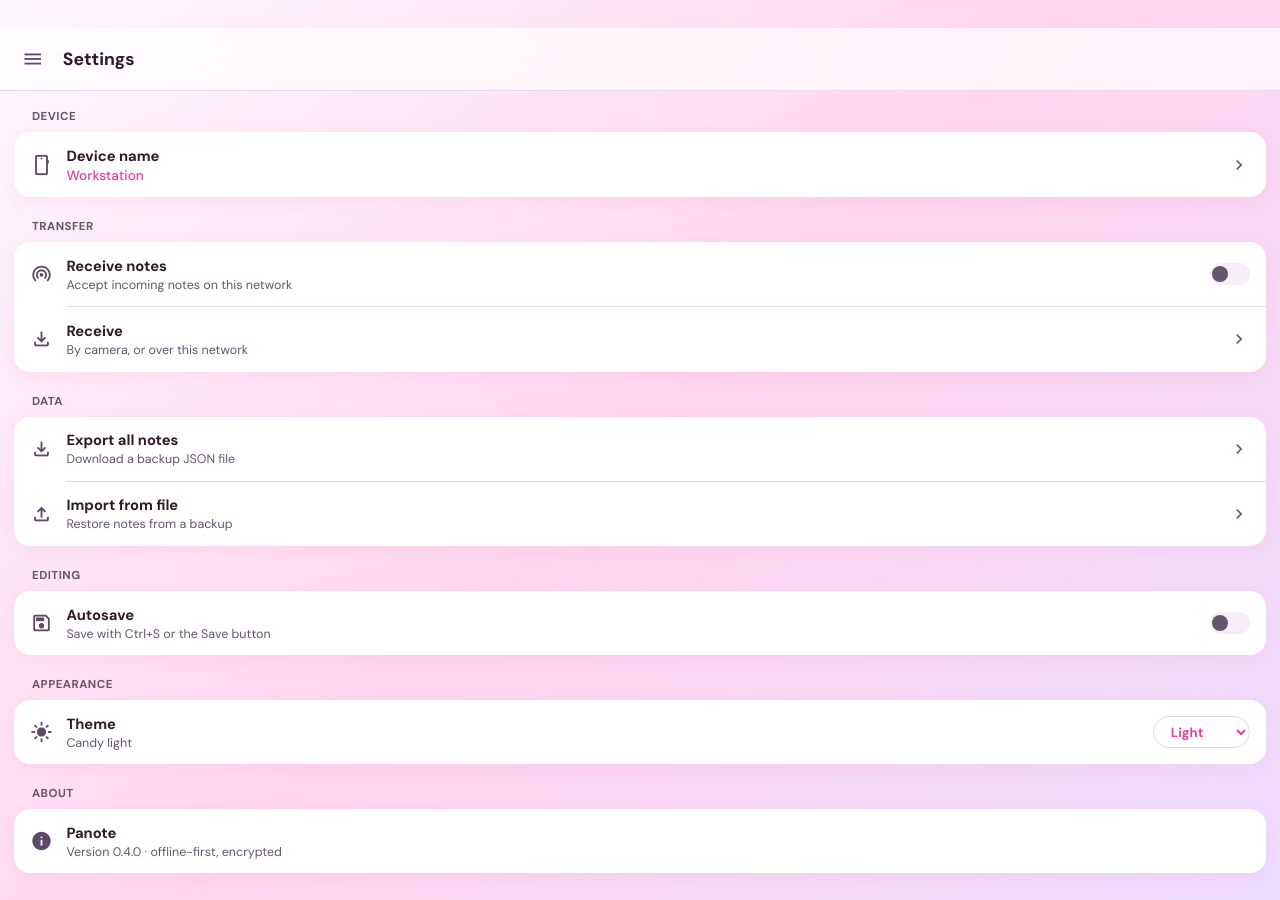
Test: device name › saves a new name
This screenshot has width=1280, height=900.
Click the button with class "name-value" at (105, 175), box top-left (66, 167), bottom-right (1216, 184)
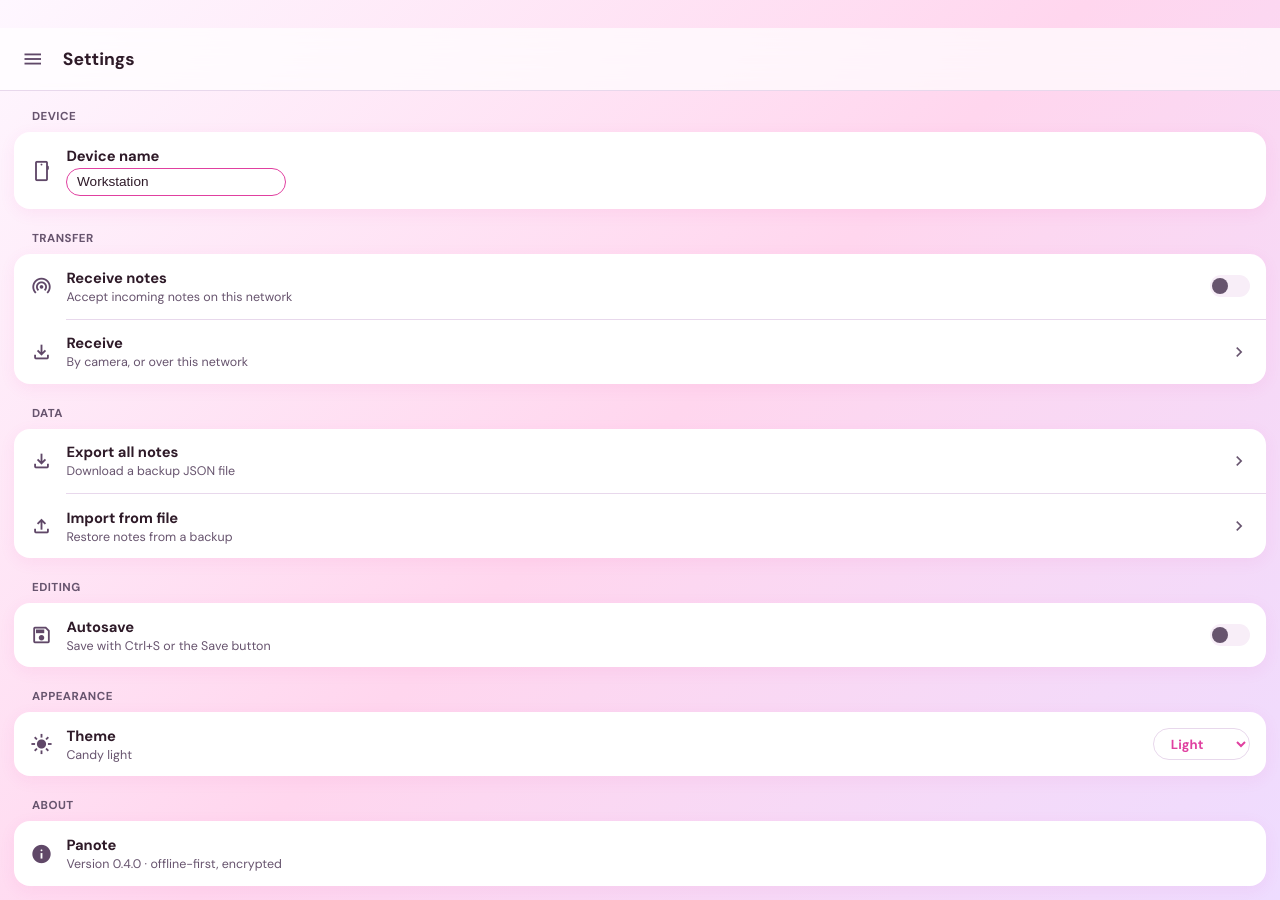
Replace the text in the field with class "name-input" with "Laptop" at (176, 182), box top-left (66, 168), bottom-right (286, 196)
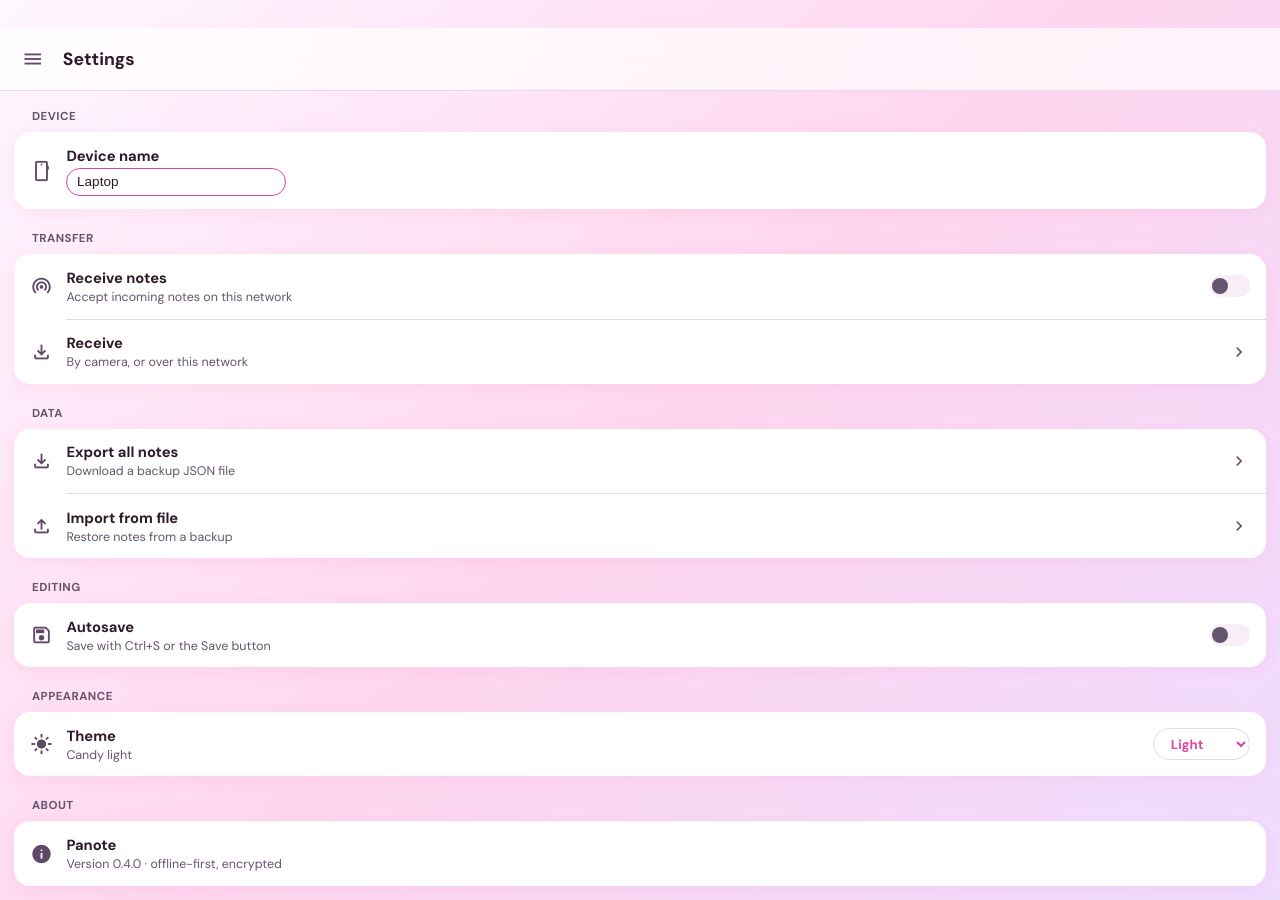
Press Enter in the field with class "name-input", box top-left (66, 168), bottom-right (286, 196)
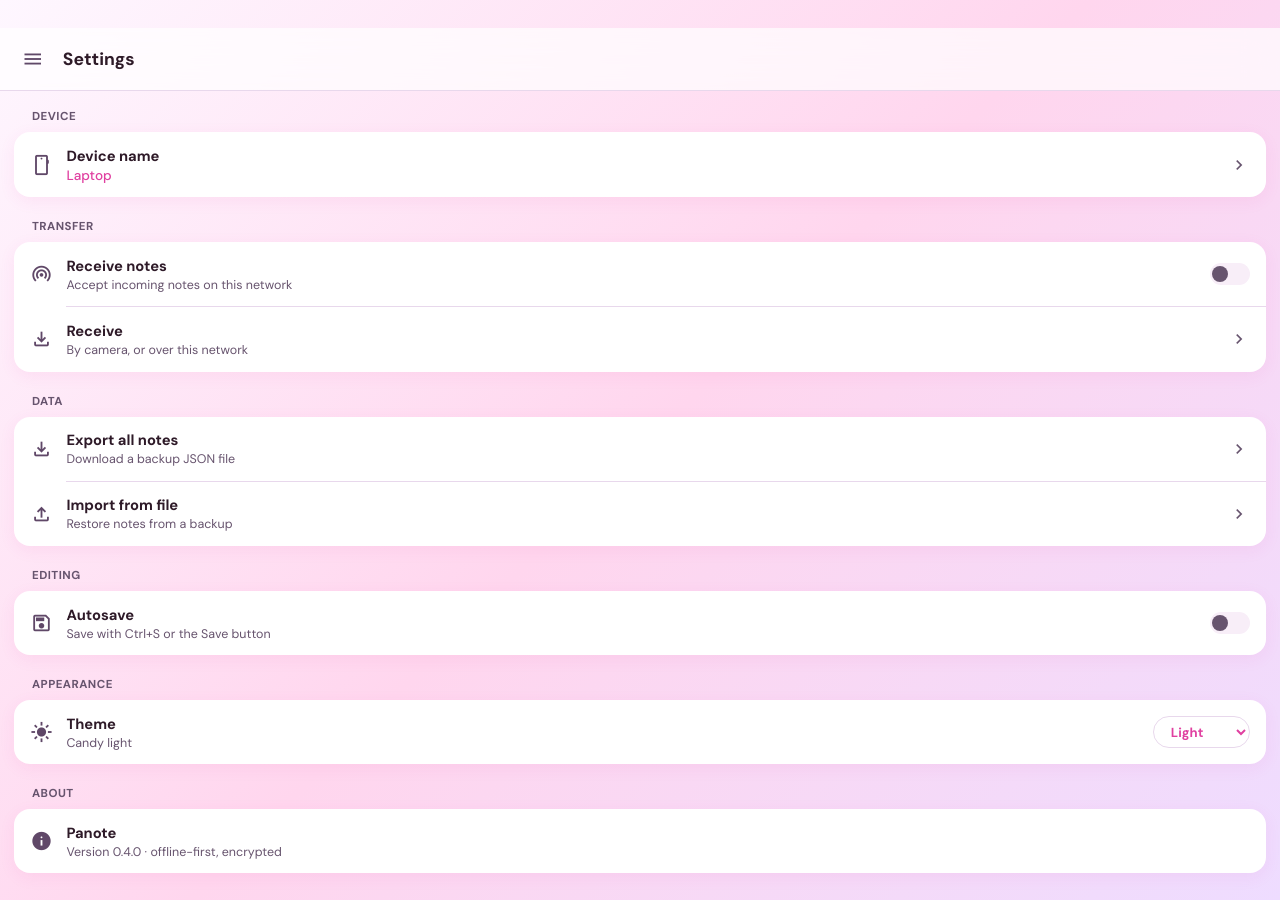
Expected: the text "Laptop" is shown, top-left (66, 167), bottom-right (1216, 184)
